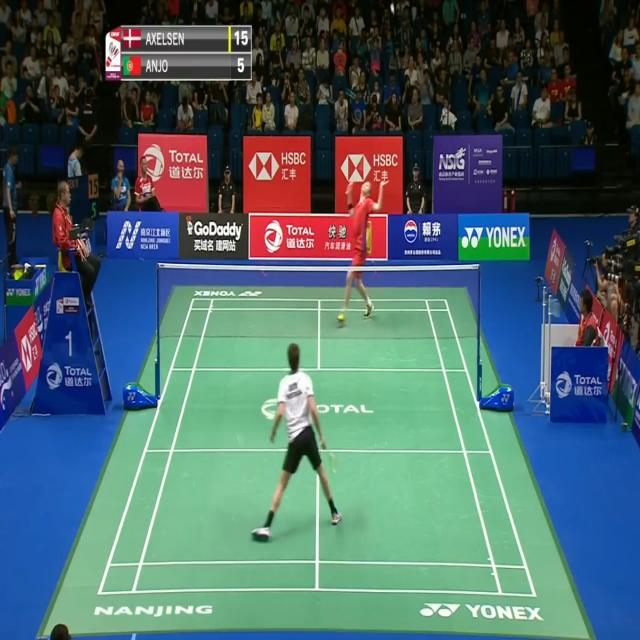Player1: (248, 337, 346, 543)
Player2: (332, 168, 388, 330)
